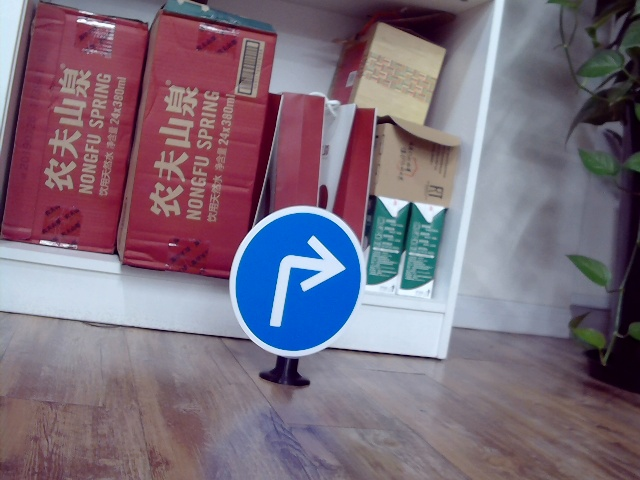turn_right: (269, 232, 339, 334)
